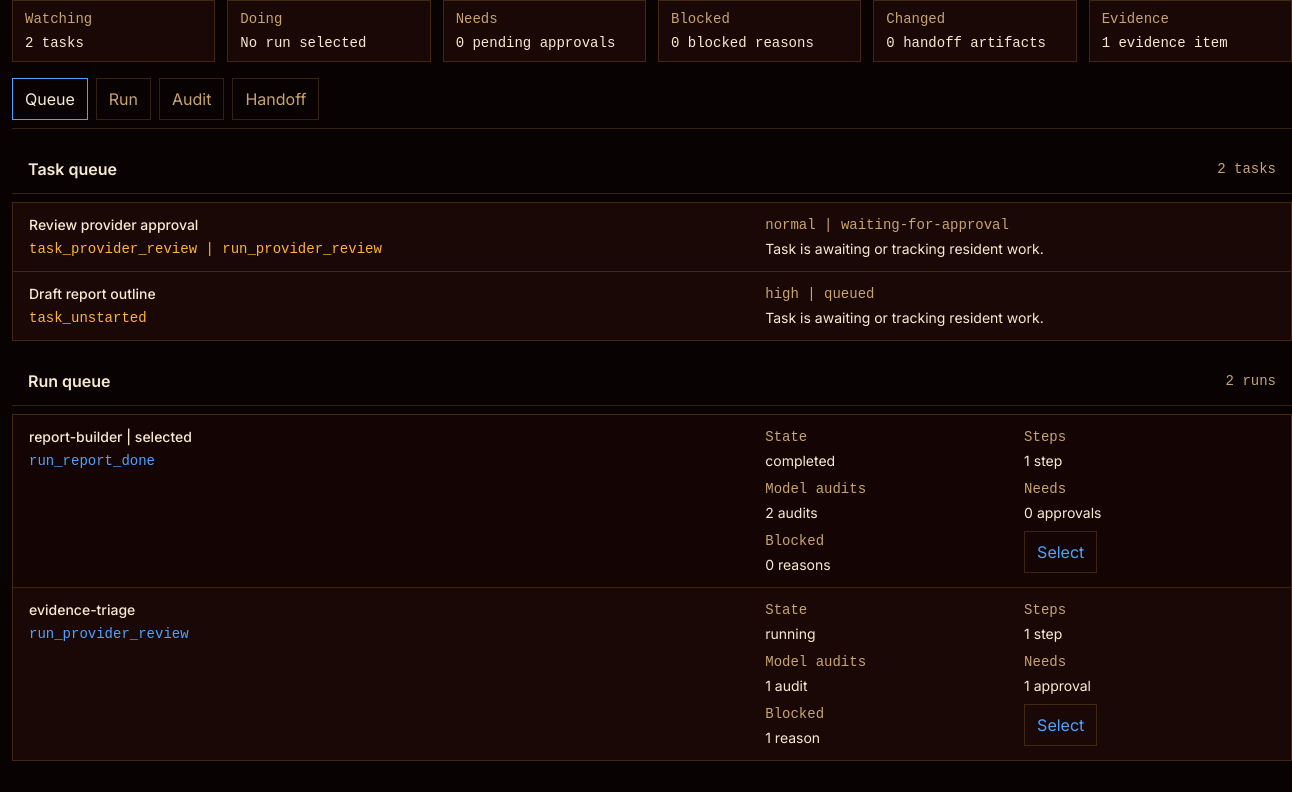
Test: AgentRunCockpit › shows an explicit missing-data diagnostic without substituting the active queue run
Click the tab "Audit" at (192,99), box x1=159 y1=78 x2=224 y2=120
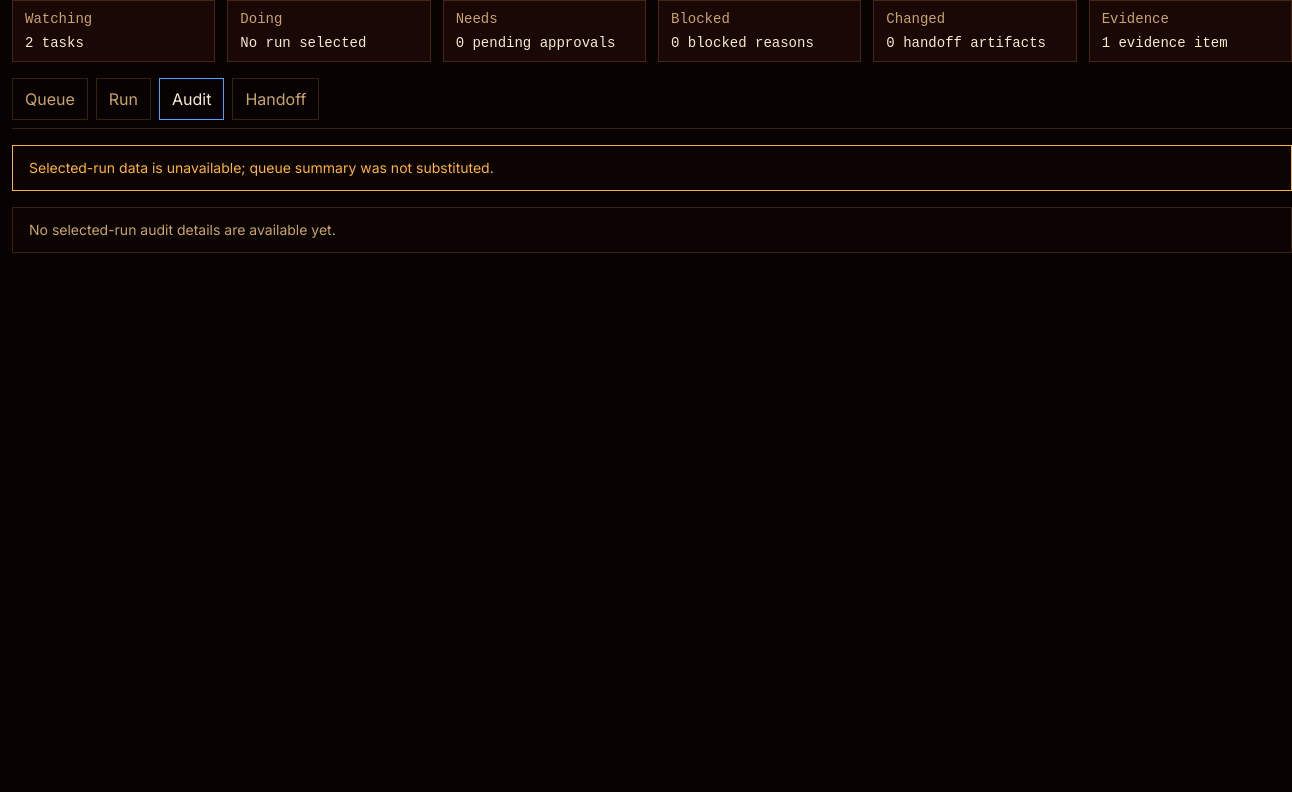
Check: the text "run_report_done" is gone
Check: the text "report-builder" is gone
Check: the text "Selected-run data is unavailable; queue summary was not substituted" is shown, box x1=29 y1=159 x2=494 y2=176
Click the tab "Handoff" at (276,99), box x1=232 y1=78 x2=319 y2=120
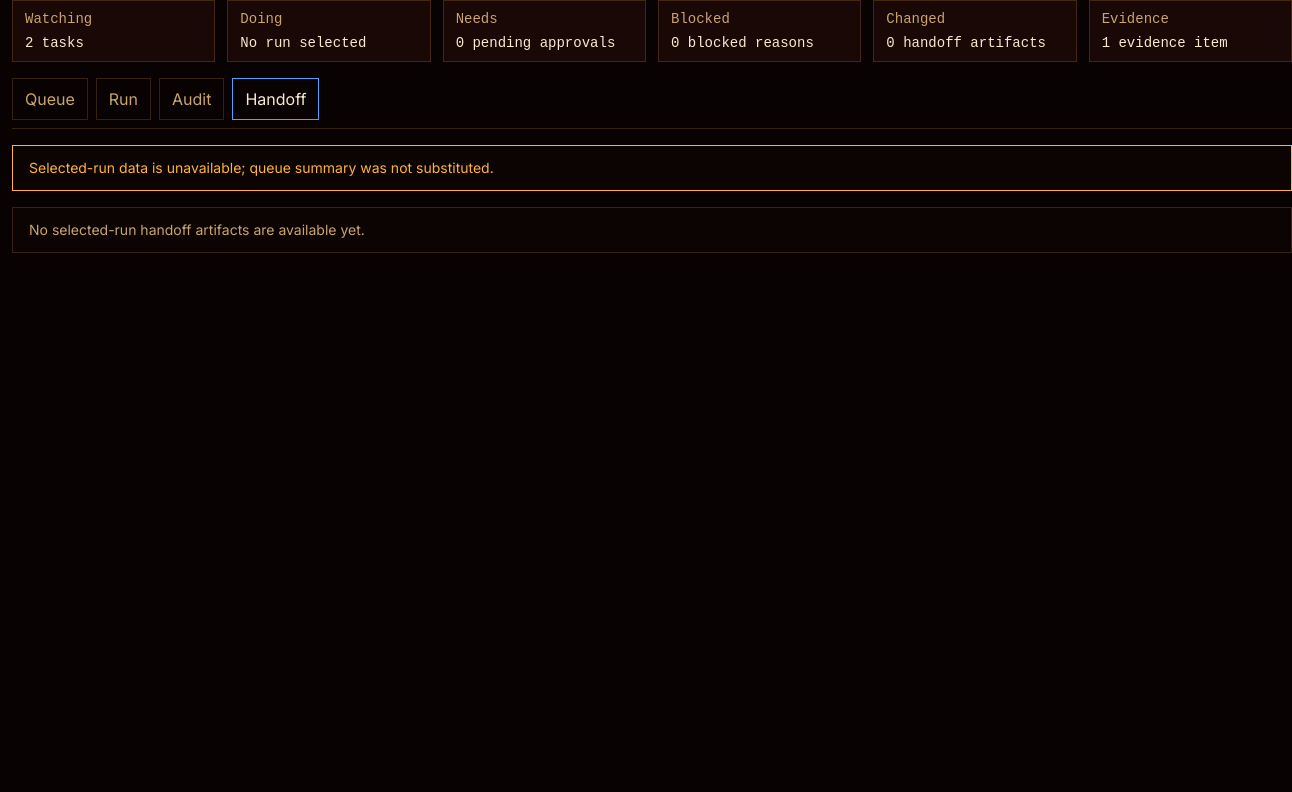
Check: the text "Selected-run data is unavailable; queue summary was not substituted" is shown, box x1=29 y1=159 x2=494 y2=176
Check: the text "No selected-run handoff artifacts are available yet." is shown, box x1=12 y1=207 x2=1291 y2=253
